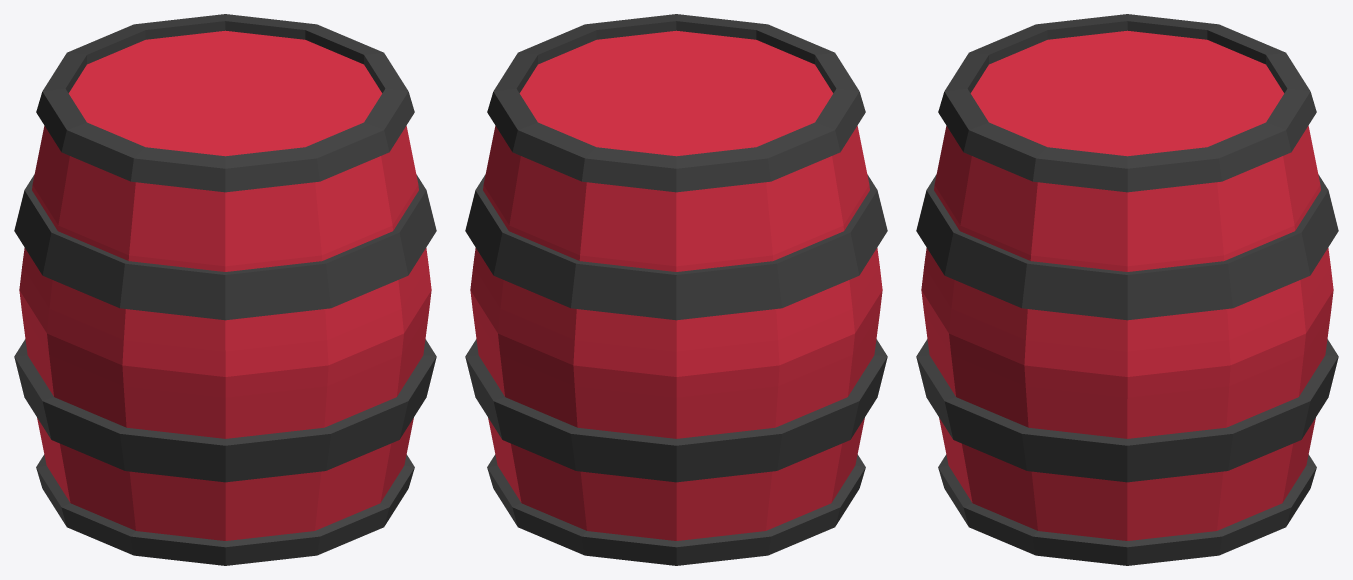
The model's file is ExplosiveBarrel.fbx.
3 renders of one model, left to right at view 1: azimuth 30°, elevation 25°; view 2: azimuth 150°, elevation 25°; view 3: azimuth 270°, elevation 25°, orthographic.
Visible parts, largest first — view 1: ExplosiveBarrel; view 2: ExplosiveBarrel; view 3: ExplosiveBarrel.
Part boxes in pixels (x1,y1,x2,y2): ExplosiveBarrel: (14, 14, 436, 565); ExplosiveBarrel: (465, 14, 887, 565); ExplosiveBarrel: (916, 14, 1338, 565).
Size of the model in its own units: 240 by 253 by 240.
